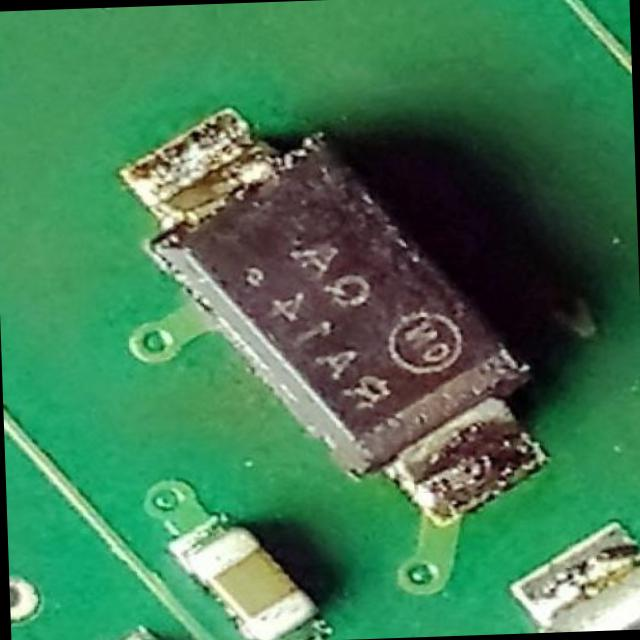capacitor: (177, 492, 332, 640)
diode: (143, 110, 536, 488)
